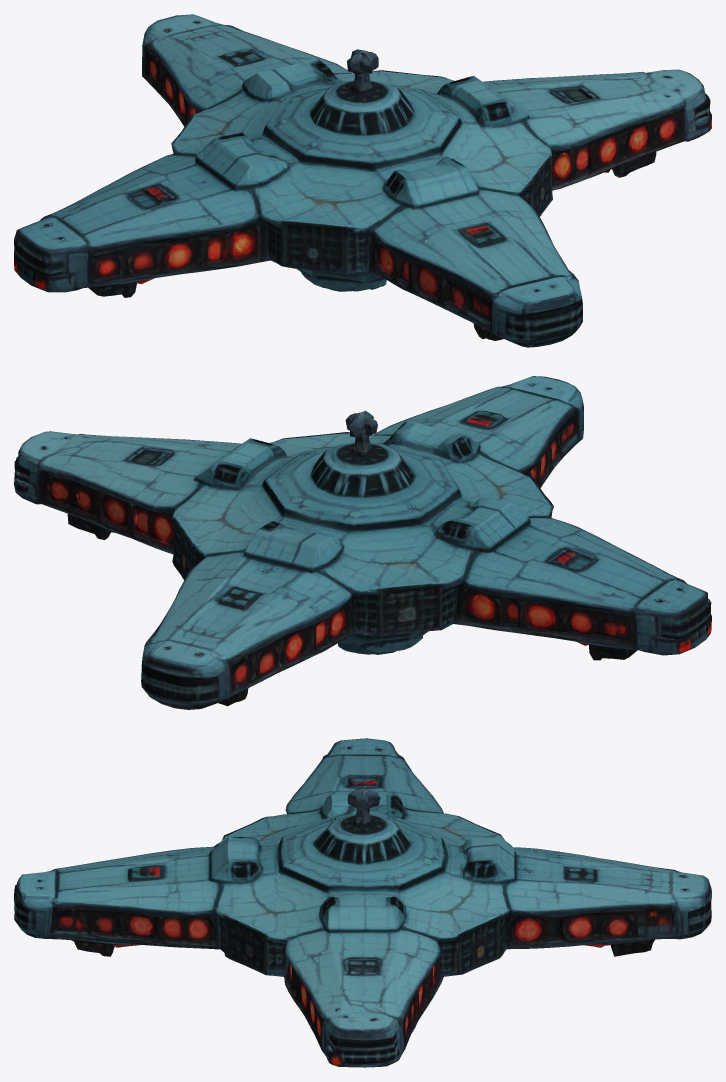
Rendered from Compass Freighter.glb.
3 views of the same model, one above another, from view 1: azimuth 30°, elevation 25°; view 2: azimuth 150°, elevation 25°; view 3: azimuth 270°, elevation 25° (orthographic). The views are drawn at different scales.
Visible parts, largest first — view 1: world; view 2: world; view 3: world.
Part boxes in pixels (<box>): world: <box>14,14,711,347</box>; world: <box>14,376,711,709</box>; world: <box>14,738,711,1067</box>.
Size of the model in its own units: 0.9998 by 0.2992 by 1.
Materials: 1 (1 with a texture image).
